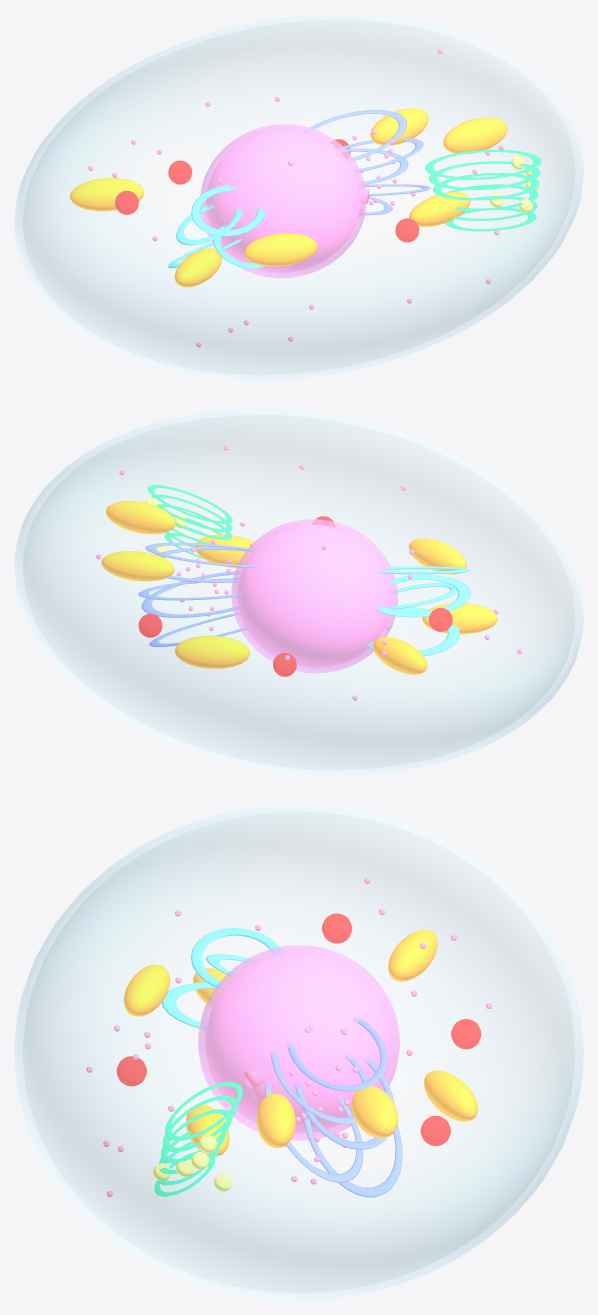
Rendered from animal_cell.glb.
3 views of the same model, one above another, from view 1: azimuth 30°, elevation 25°; view 2: azimuth 150°, elevation 25°; view 3: azimuth 270°, elevation 25° (orthographic). The views are drawn at different scales.
Visible parts, largest first — view 1: CellMembrane, NuclearEnvelope, Nucleus, Mitochondria_6, Mitochondria_4, Mitochondria_2, Mitochondria_1, Mitochondria_3, Mitochondria_0, SmoothER_0, Golgi_cisterna_5, RoughER_0 (+9 smaller); view 2: CellMembrane, NuclearEnvelope, Nucleus, Mitochondria_5, Mitochondria_4, Mitochondria_0, Mitochondria_2, Mitochondria_6, Mitochondria_3, SmoothER_1, Mitochondria_1, RoughER_3 (+9 smaller); view 3: CellMembrane, NuclearEnvelope, Nucleus, Mitochondria_5, Mitochondria_0, Mitochondria_2, Mitochondria_6, Mitochondria_4, RoughER_4, SmoothER_0, RoughER_0, RoughER_3 (+10 smaller).
Boxes of the visible parts, bbox=[...] form: CellMembrane: bbox=[14, 14, 583, 380]; NuclearEnvelope: bbox=[200, 124, 366, 278]; Nucleus: bbox=[206, 130, 360, 272]; Mitochondria_6: bbox=[244, 233, 317, 266]; Mitochondria_4: bbox=[443, 117, 507, 154]; Mitochondria_2: bbox=[69, 178, 144, 211]; Mitochondria_1: bbox=[409, 191, 470, 226]; Mitochondria_3: bbox=[174, 248, 222, 287]; Mitochondria_0: bbox=[370, 108, 428, 145]; SmoothER_0: bbox=[191, 185, 265, 236]; Golgi_cisterna_5: bbox=[425, 149, 541, 179]; RoughER_0: bbox=[304, 109, 407, 161]; CellMembrane: bbox=[14, 409, 583, 775]; NuclearEnvelope: bbox=[231, 519, 397, 673]; Nucleus: bbox=[237, 525, 391, 667]; Mitochondria_5: bbox=[174, 635, 250, 668]; Mitochondria_4: bbox=[106, 501, 175, 534]; Mitochondria_0: bbox=[101, 551, 174, 581]; Mitochondria_2: bbox=[373, 637, 427, 674]; Mitochondria_6: bbox=[408, 538, 466, 574]; Mitochondria_3: bbox=[422, 603, 497, 634]; SmoothER_1: bbox=[375, 574, 470, 617]; Mitochondria_1: bbox=[195, 534, 258, 567]; RoughER_3: bbox=[141, 571, 240, 617]; CellMembrane: bbox=[14, 804, 583, 1300]; NuclearEnvelope: bbox=[198, 945, 399, 1140]; Nucleus: bbox=[205, 952, 392, 1133]; Mitochondria_5: bbox=[424, 1070, 477, 1121]; Mitochondria_0: bbox=[351, 1086, 398, 1138]; Mitochondria_2: bbox=[388, 929, 437, 981]; Mitochondria_6: bbox=[123, 964, 170, 1016]; Mitochondria_4: bbox=[256, 1093, 295, 1148]; RoughER_4: bbox=[303, 1085, 402, 1197]; SmoothER_0: bbox=[190, 928, 282, 988]; RoughER_0: bbox=[287, 1016, 387, 1091]; RoughER_3: bbox=[265, 1082, 363, 1182].
Size of the model in its own units: 10 by 5.5 by 7.5.
